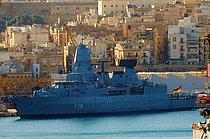MIL_Ship: (10, 45, 194, 115)
